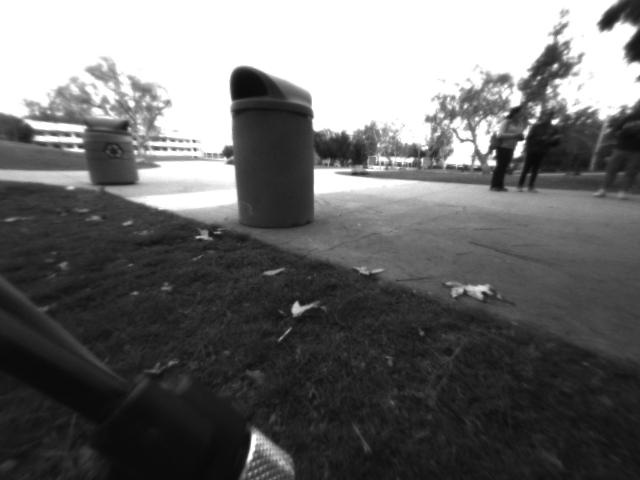trashcan: (229, 61, 319, 230)
